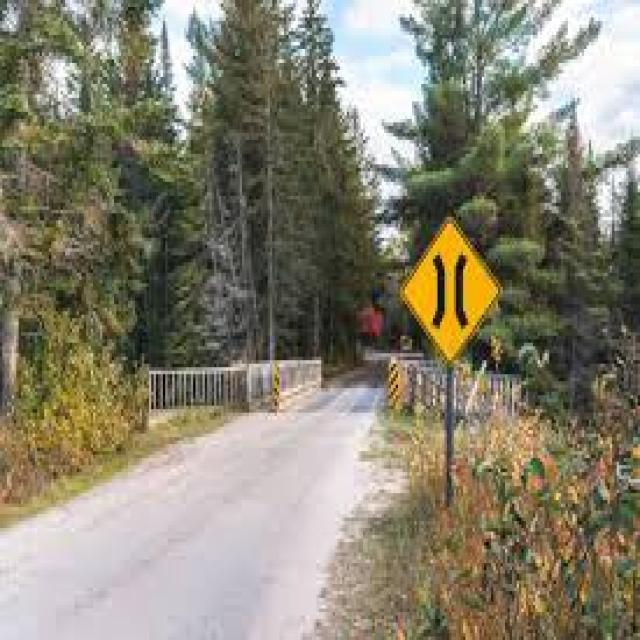narrow bridge ahead: (398, 214, 501, 363)
